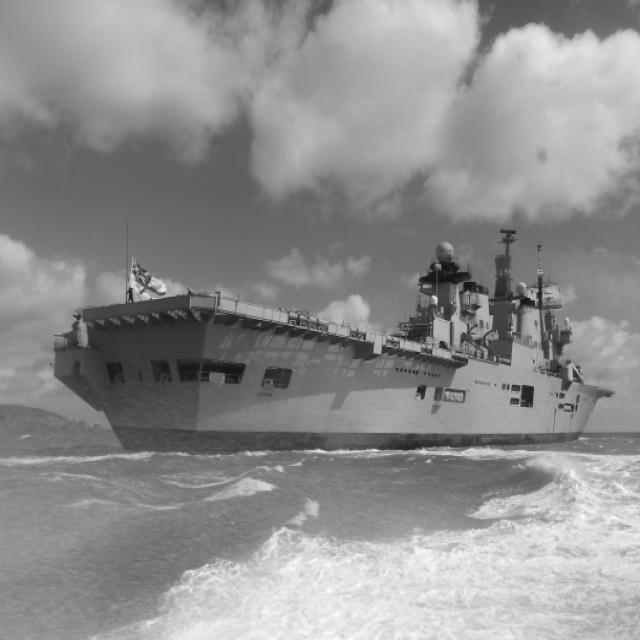Portanaves: (50, 206, 620, 461)
